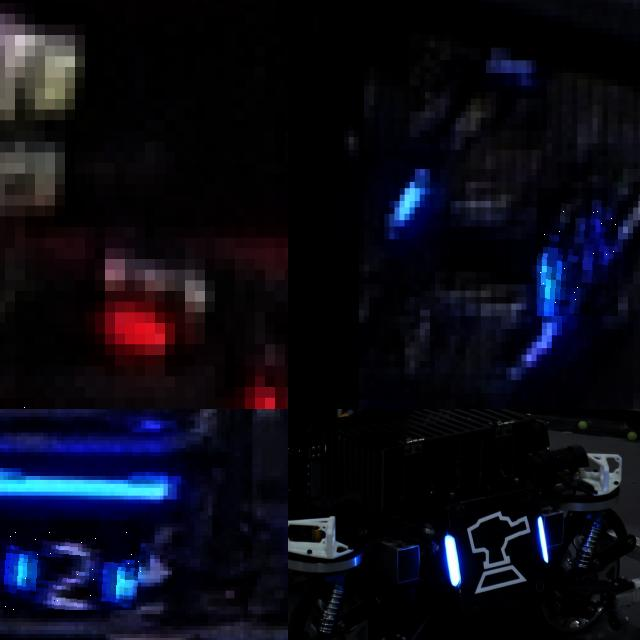B2: (0, 519, 141, 610)
B3: (537, 188, 618, 316)
Bs: (447, 503, 550, 595)
